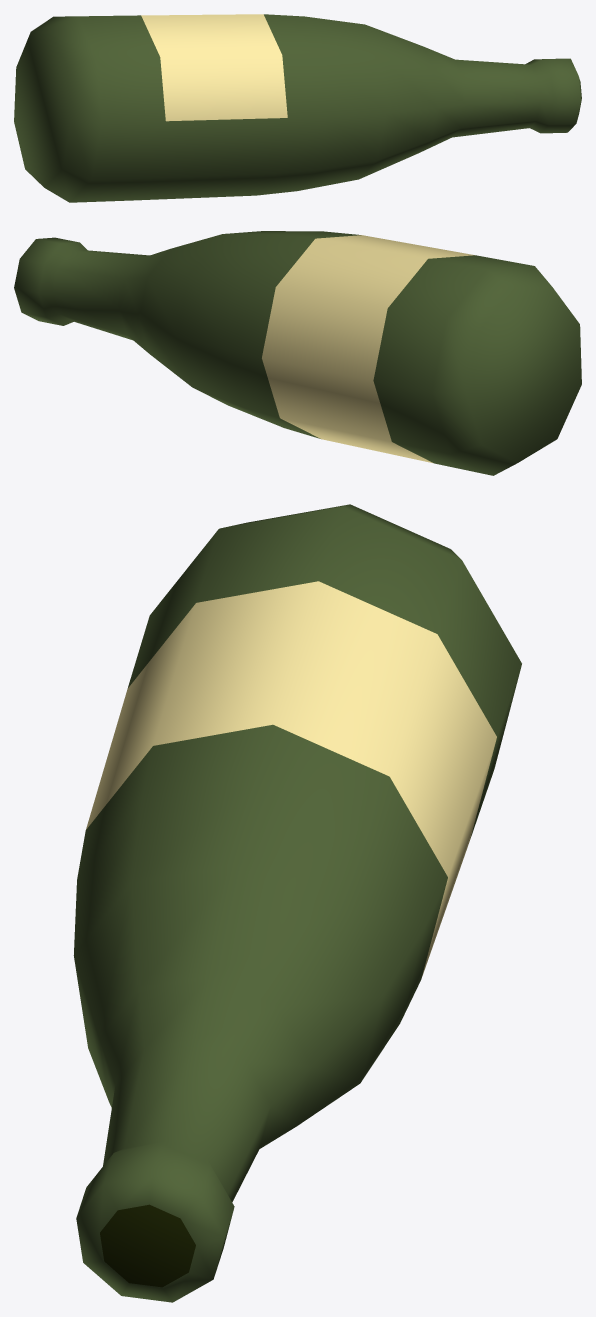
The model's file is glassBottle02.fbx.
The picture shows the model from 3 angles, top to bottom: view 1: azimuth 30°, elevation 25°; view 2: azimuth 150°, elevation 25°; view 3: azimuth 270°, elevation 25°; orthographic projection. The views are drawn at different scales.
Parts seen in each view (by area): view 1: Cylinder.001; view 2: Cylinder.001; view 3: Cylinder.001.
Boxes of the visible parts, <box> form: Cylinder.001: <box>14,14,581,202</box>; Cylinder.001: <box>14,231,581,475</box>; Cylinder.001: <box>73,504,521,1302</box>.
Size of the model in its own units: 74.57 by 27.48 by 28.9.
